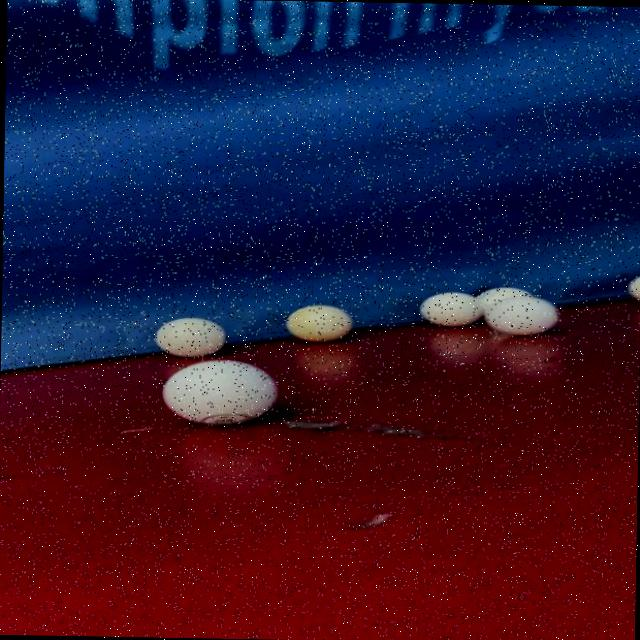ping-pong-ball: (154, 356, 282, 428), (276, 300, 355, 347), (148, 312, 228, 358), (416, 287, 484, 327)
